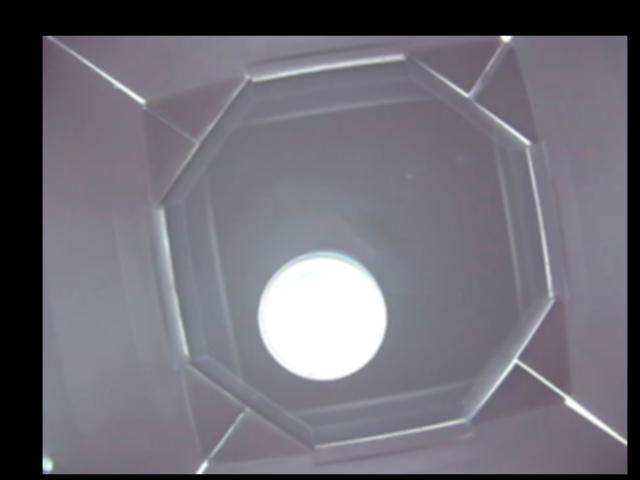Bottle: (257, 250, 387, 380)
